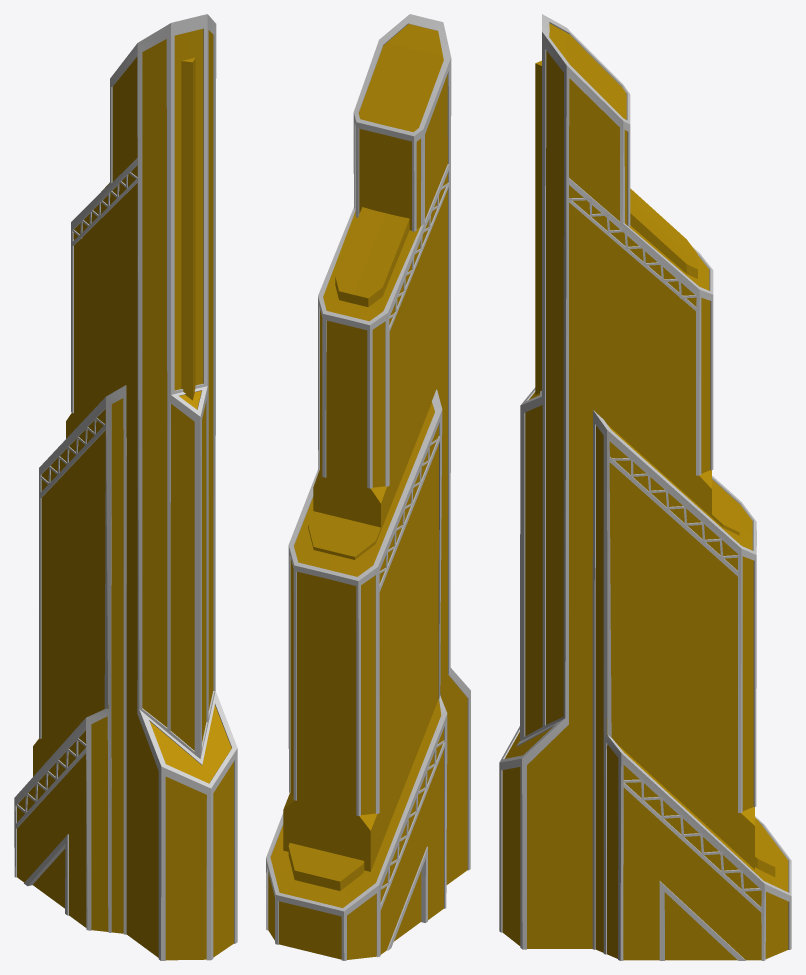
File: City 2.fbx
The picture shows the model from 3 angles, left to right: view 1: azimuth 30°, elevation 25°; view 2: azimuth 150°, elevation 25°; view 3: azimuth 270°, elevation 25°; orthographic projection. The views are drawn at different scales.
Visible parts, largest first — view 1: SmartCombine_4; view 2: SmartCombine_4; view 3: SmartCombine_4.
Boxes of the visible parts, <box> form: SmartCombine_4: <box>14,14,237,960</box>; SmartCombine_4: <box>266,14,470,960</box>; SmartCombine_4: <box>499,14,791,960</box>.
Size of the model in its own units: 4901 by 34401 by 10033.
